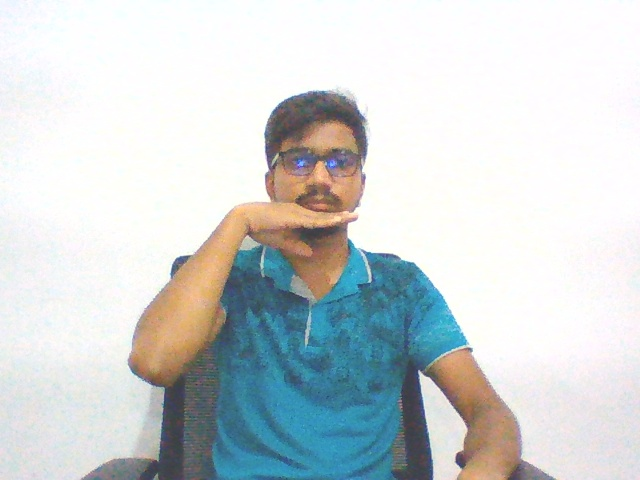elephant: (225, 181, 378, 277)
